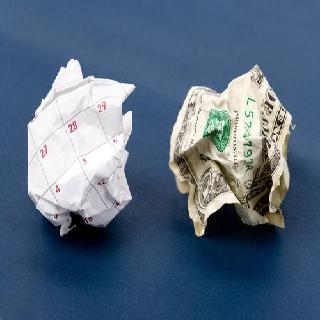8/可回收垃圾/纸: (168, 63, 297, 238), (27, 57, 137, 237)
